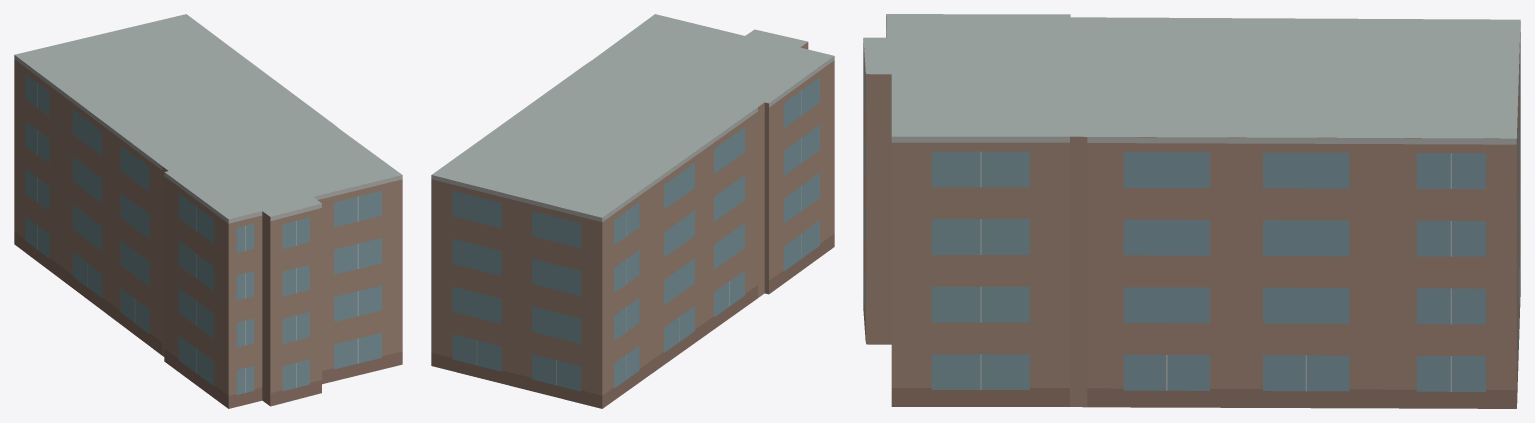
The model's file is survey-upis-32813817.glb.
3 views of the same model, side by side, from view 1: azimuth 30°, elevation 25°; view 2: azimuth 150°, elevation 25°; view 3: azimuth 270°, elevation 25° (orthographic). The views are drawn at different scales.
Parts seen in each view (by area): view 1: survey-upis-32813817.tmp; view 2: survey-upis-32813817.tmp; view 3: survey-upis-32813817.tmp.
Part boxes in pixels (<box>): survey-upis-32813817.tmp: <box>14,14,402,408</box>; survey-upis-32813817.tmp: <box>431,14,834,408</box>; survey-upis-32813817.tmp: <box>863,14,1520,408</box>.
Size of the model in its own units: 10.68 by 10.8 by 23.8.
